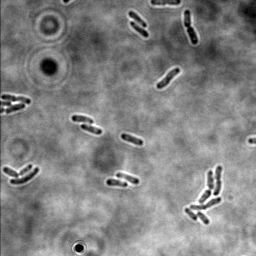Dividing: (182, 9, 200, 46), (150, 0, 183, 8)
Microcolony: (184, 164, 224, 226)
Rod: (8, 166, 40, 186), (156, 67, 181, 90), (127, 10, 147, 29), (115, 171, 140, 186), (119, 132, 144, 147), (128, 21, 149, 38), (80, 123, 103, 136), (4, 102, 26, 115), (70, 114, 95, 124), (104, 178, 128, 188), (2, 166, 20, 179), (18, 163, 33, 178)
